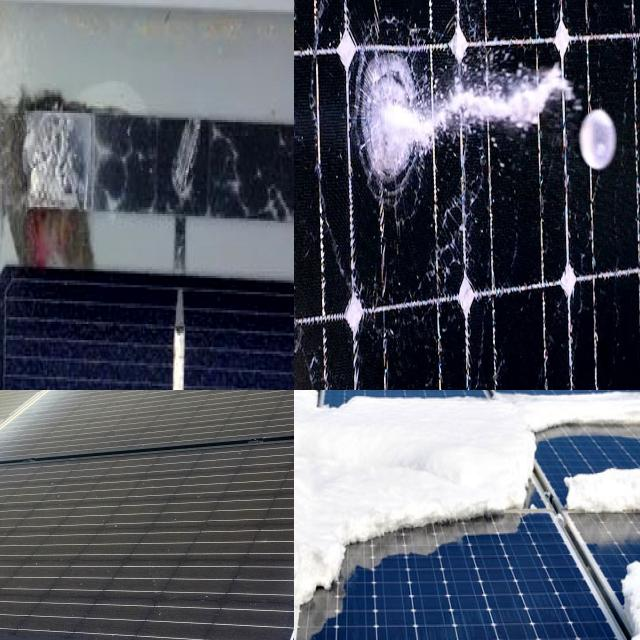dust: (81, 543, 294, 640), (0, 547, 78, 618)
hotspot: (343, 0, 590, 211)
panel: (330, 461, 531, 553), (294, 547, 380, 640), (571, 548, 640, 640), (564, 456, 640, 539), (519, 390, 640, 441), (309, 390, 509, 416), (294, 390, 355, 426)
shadow: (0, 51, 161, 290)
